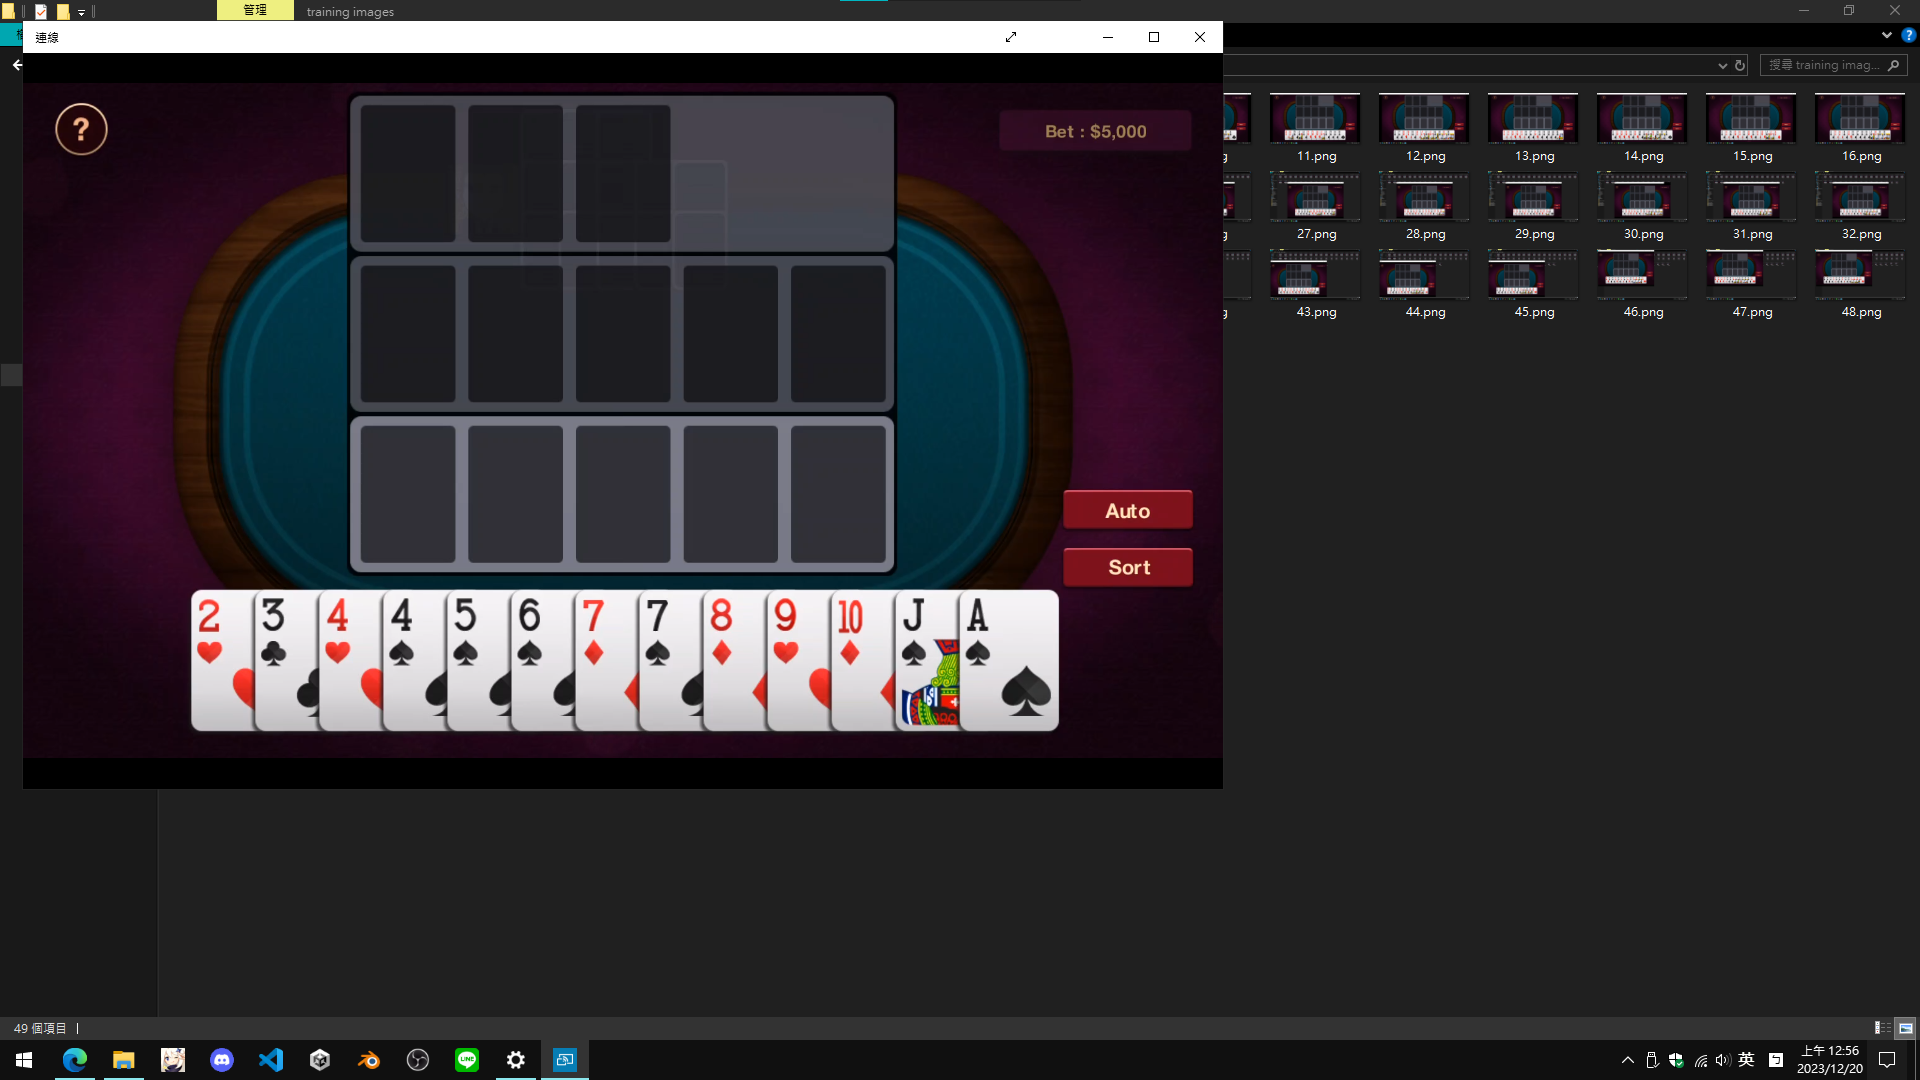10D: (836, 596, 864, 667)
2H: (195, 596, 224, 667)
3C: (257, 595, 287, 671)
4H: (322, 593, 352, 667)
4S: (389, 595, 417, 670)
5S: (451, 593, 480, 669)
6S: (514, 593, 546, 670)
7D: (578, 596, 608, 667)
7S: (642, 596, 675, 670)
8D: (708, 593, 736, 667)
9H: (770, 596, 800, 666)
AS: (963, 595, 994, 670)
JS: (899, 593, 930, 670)
